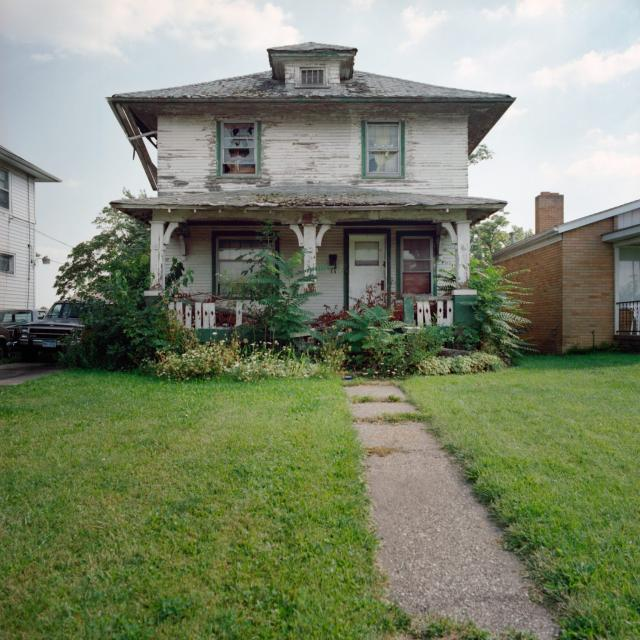House: (104, 42, 512, 374), (493, 190, 640, 360), (0, 145, 63, 364)
